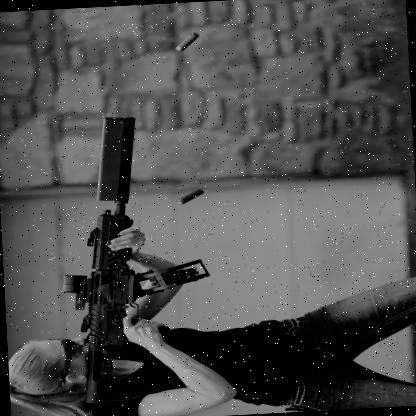rifle: (41, 108, 227, 405)
